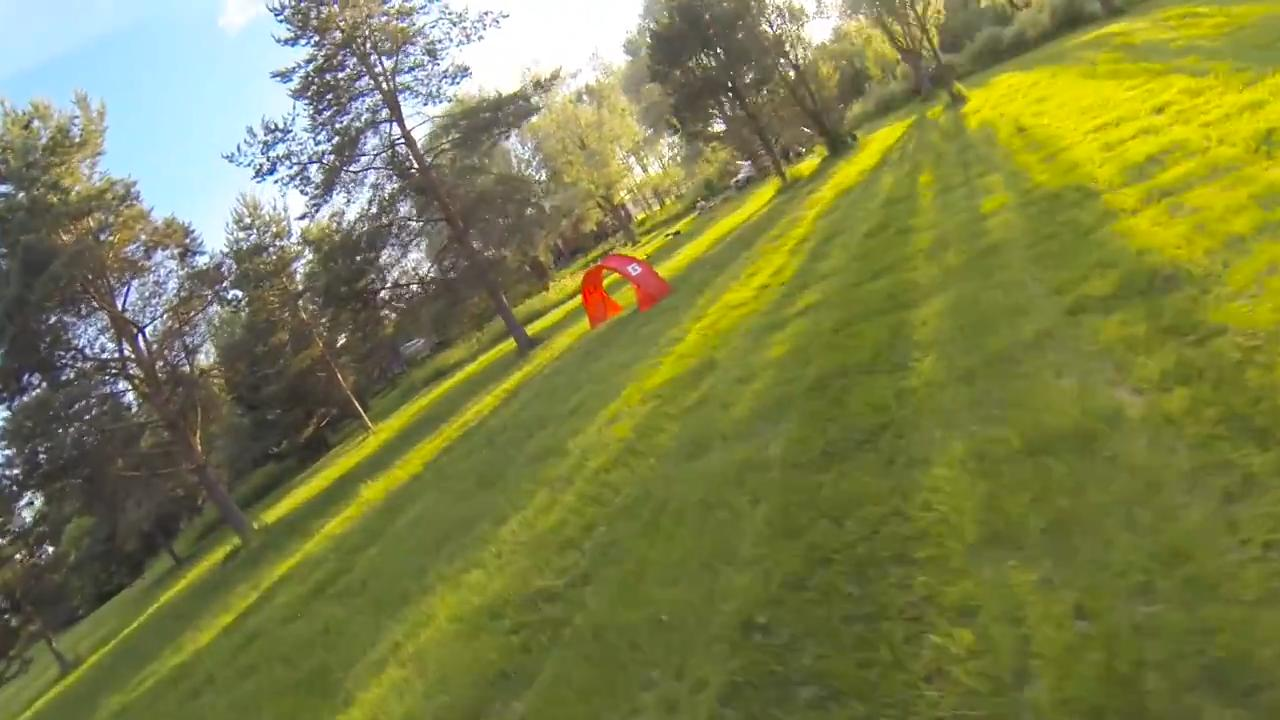gate: (575, 254, 672, 331)
